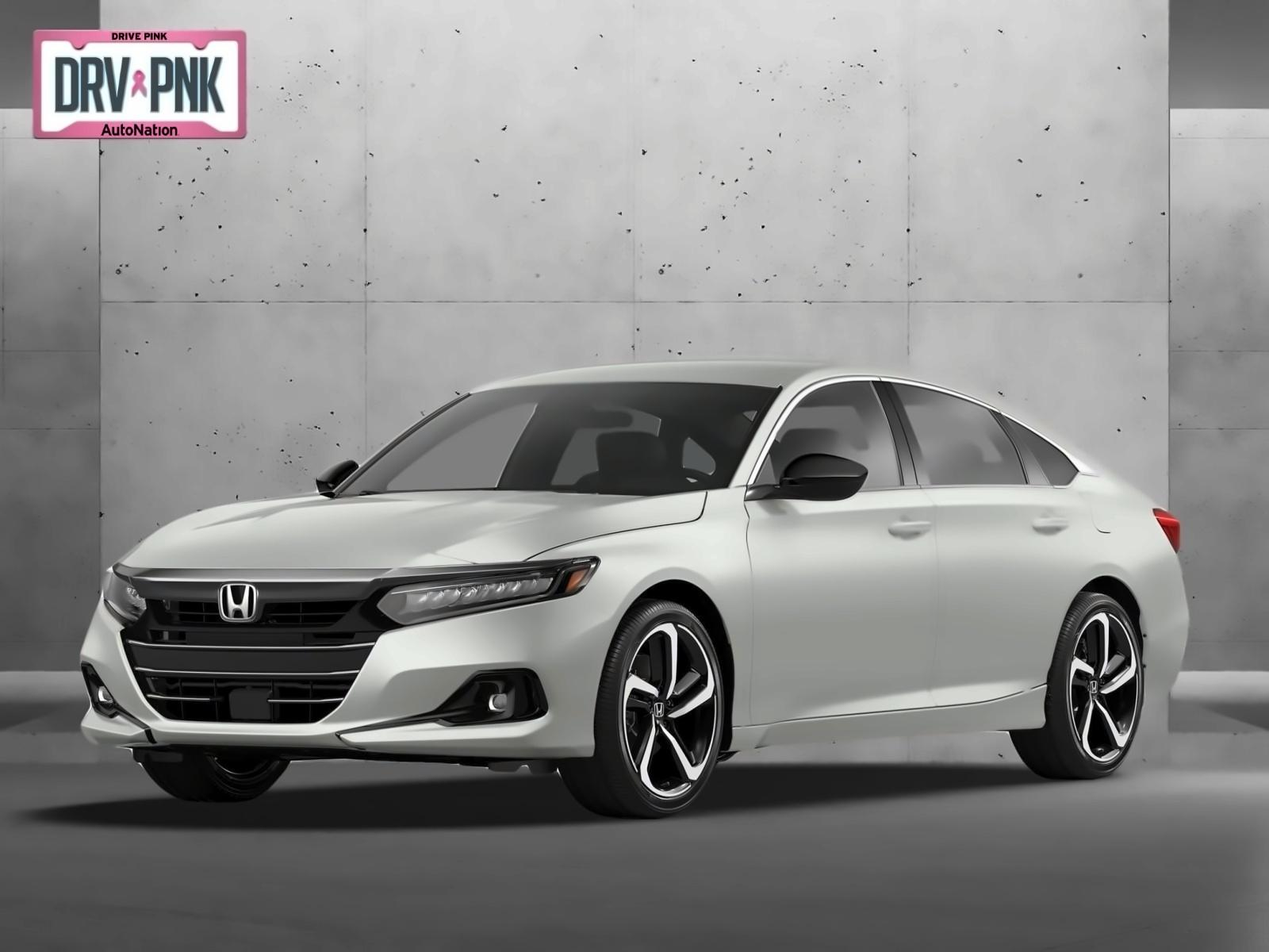Car hood: (114, 487, 712, 577)
Fender - -F-L-: (528, 480, 756, 754)
Fender - -R-L-: (1042, 516, 1163, 727)
Front bumper: (66, 605, 628, 763)
Headlight - -L-: (368, 554, 605, 637)
Headlight - -R-: (87, 559, 150, 629)
Passenger-s door - -F-L-: (754, 367, 941, 729)
Passenger-s door - -R-L-: (939, 379, 1096, 716)
Rear bumper: (1136, 611, 1206, 748)
Rear light - -L-: (1142, 500, 1199, 559)
Side bumper - -L-: (717, 680, 1054, 755)
Side mirror - -L-: (741, 443, 877, 512)
Side mirror - -R-: (302, 441, 371, 497)
